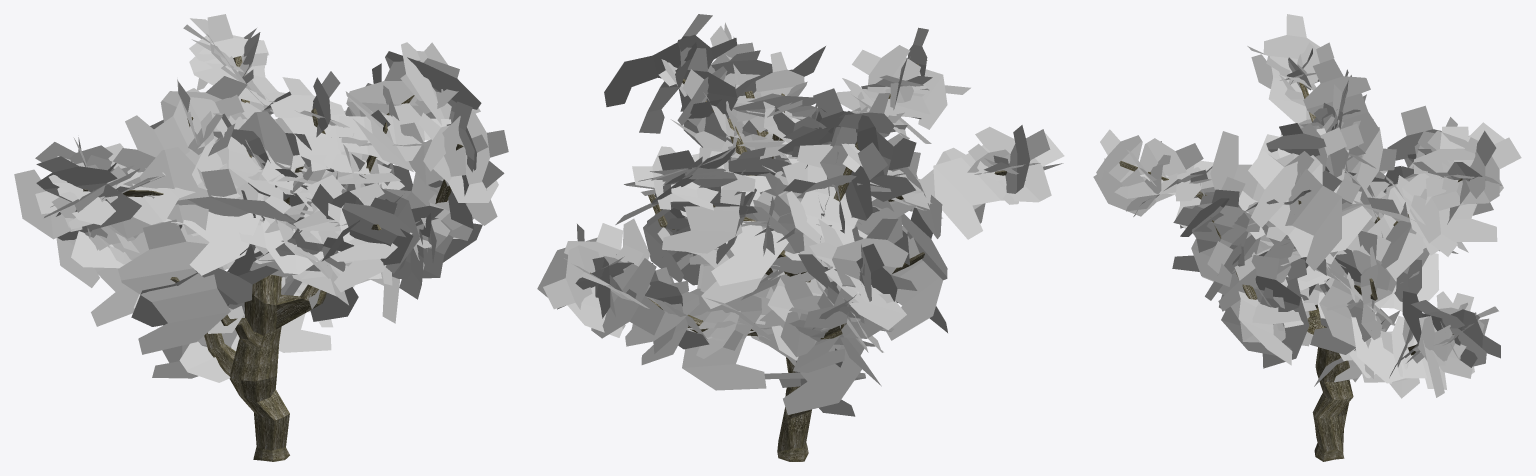
File: Arbol_04.fbx
3 renders of one model, left to right at view 1: azimuth 30°, elevation 25°; view 2: azimuth 150°, elevation 25°; view 3: azimuth 270°, elevation 25°, orthographic. The views are drawn at different scales.
Parts seen in each view (by area): view 1: arbol003.006; view 2: arbol003.006; view 3: arbol003.006.
Boxes of the visible parts, x1,y1,x2,y2 form: arbol003.006: (14, 14, 508, 461); arbol003.006: (537, 14, 1064, 461); arbol003.006: (1093, 14, 1521, 461).
Size of the model in its own units: 34.94 by 29.2 by 31.56.
